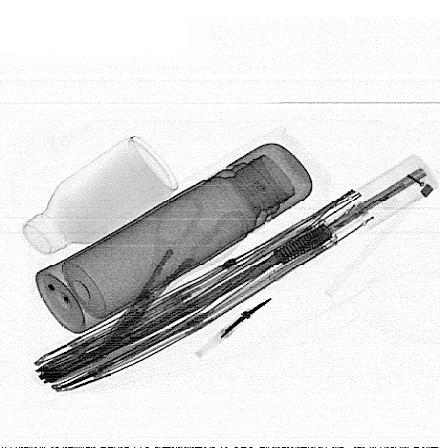Scissors: (96, 194, 251, 363), (193, 298, 277, 359)
